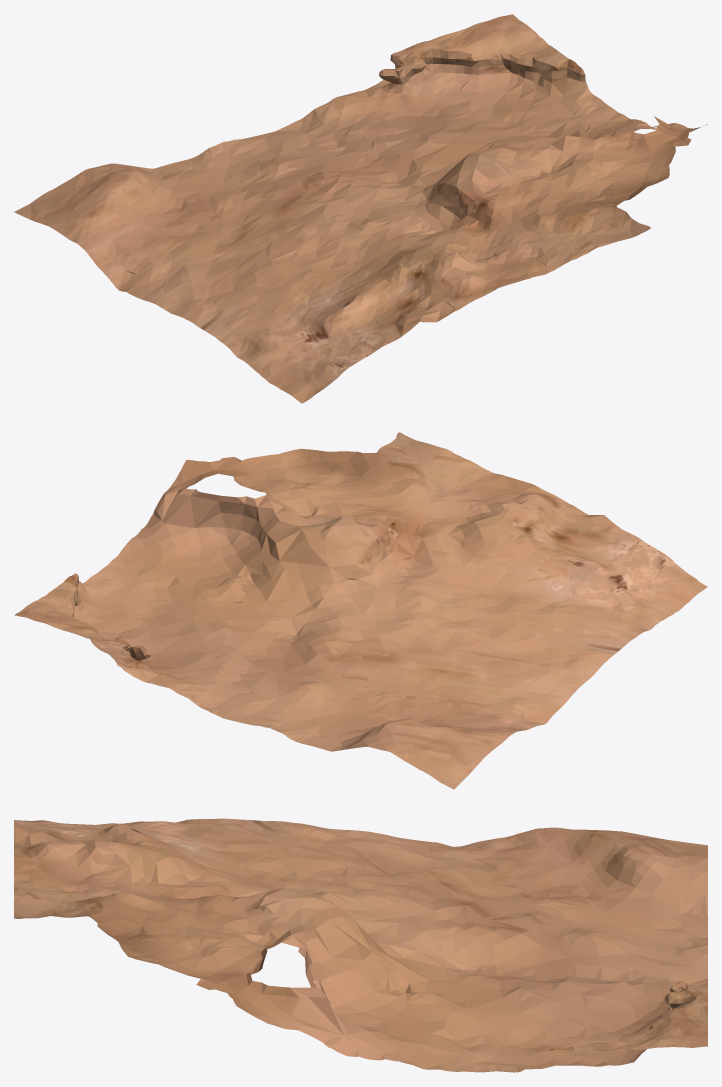
The picture shows the model from 3 angles, top to bottom: view 1: azimuth 30°, elevation 25°; view 2: azimuth 150°, elevation 25°; view 3: azimuth 270°, elevation 25°; orthographic projection. The views are drawn at different scales.
Bounding box in the file's own units: 1.04 × 0.2218 × 1.04.
2 materials, 2 textured.
